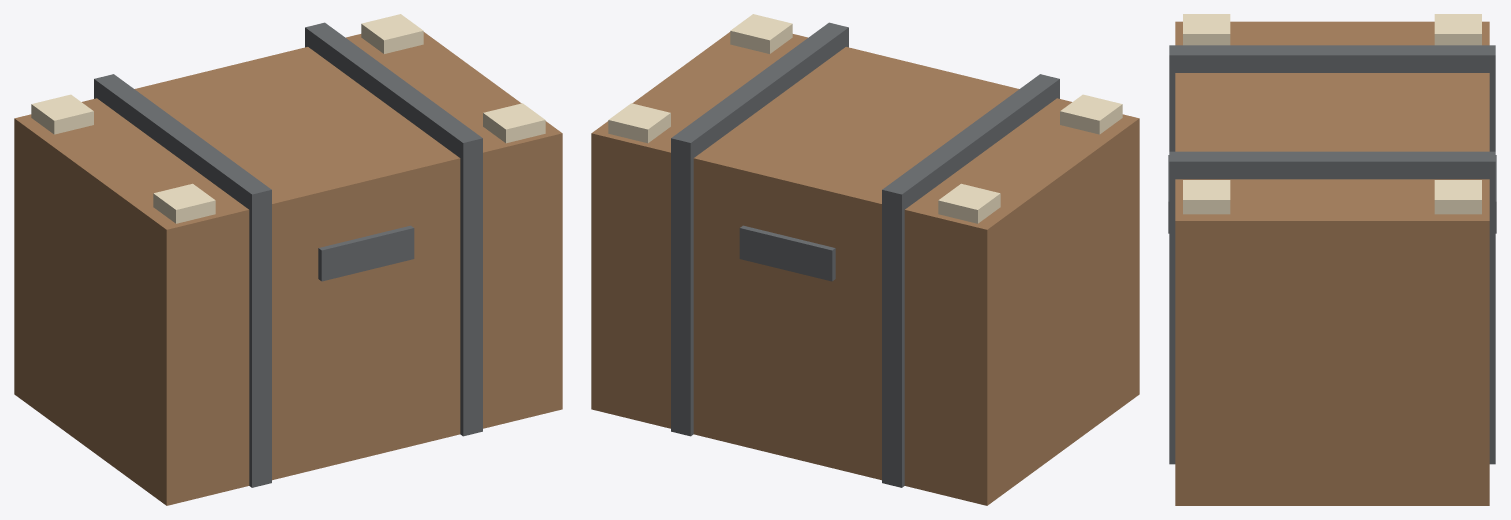
File: frontier-strapped-supply-crate__138.glb
3 views of the same model, side by side, from view 1: azimuth 30°, elevation 25°; view 2: azimuth 150°, elevation 25°; view 3: azimuth 270°, elevation 25° (orthographic). The views are drawn at different scales.
Visible parts, largest first — view 1: frontier-post-supply-crate; view 2: frontier-post-supply-crate; view 3: frontier-post-supply-crate.
Part boxes in pixels (box(x1,y1,x2,y2)): frontier-post-supply-crate: box(14, 14, 562, 505); frontier-post-supply-crate: box(591, 14, 1139, 505); frontier-post-supply-crate: box(1168, 14, 1496, 505).
Bounding box in the file's own units: 1.2 × 0.85 × 0.835.
